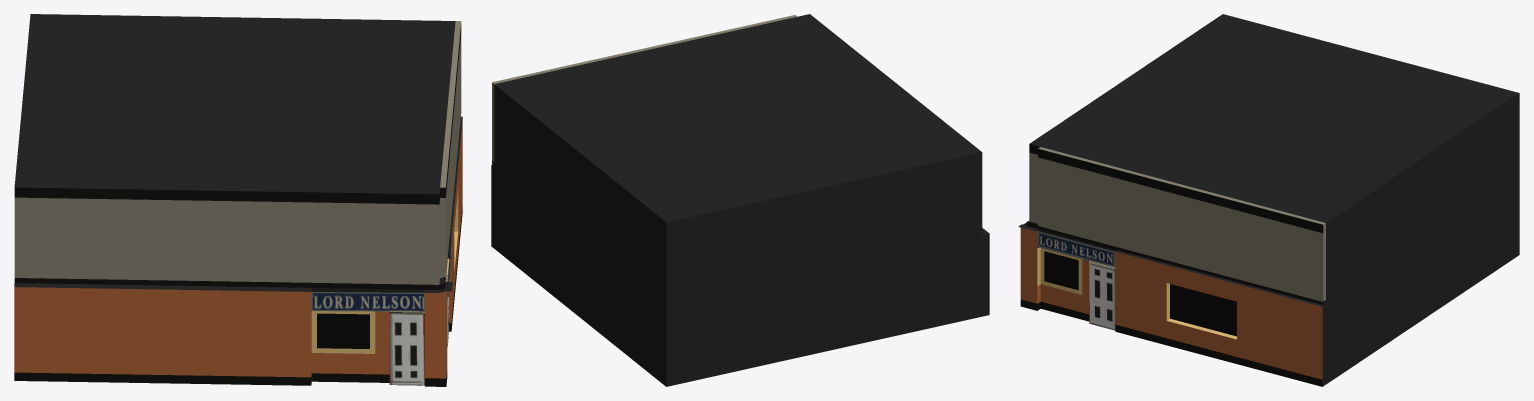
Rendered from Lord Nelson.fbx.
3 views of the same model, side by side, from view 1: azimuth 30°, elevation 25°; view 2: azimuth 150°, elevation 25°; view 3: azimuth 270°, elevation 25° (orthographic). The views are drawn at different scales.
Visible parts, largest first — view 1: Lord Nelson; view 2: Lord Nelson; view 3: Lord Nelson.
Boxes of the visible parts, x1,y1,x2,y2 form: Lord Nelson: (14, 14, 462, 386); Lord Nelson: (491, 14, 989, 386); Lord Nelson: (1018, 14, 1519, 386).
Bounding box in the file's own units: 1219 × 432 × 1213.
